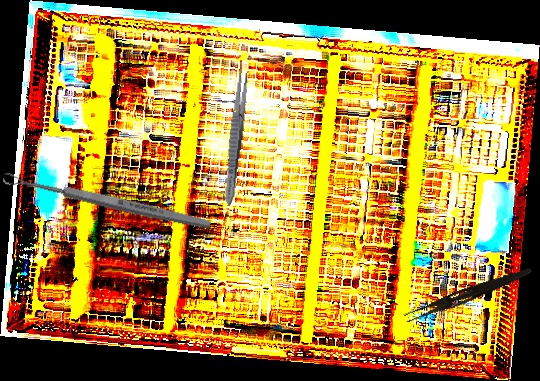Dressing Forceps: (403, 261, 533, 328), (221, 62, 251, 208)
Surgical Spoon: (2, 170, 212, 232)
